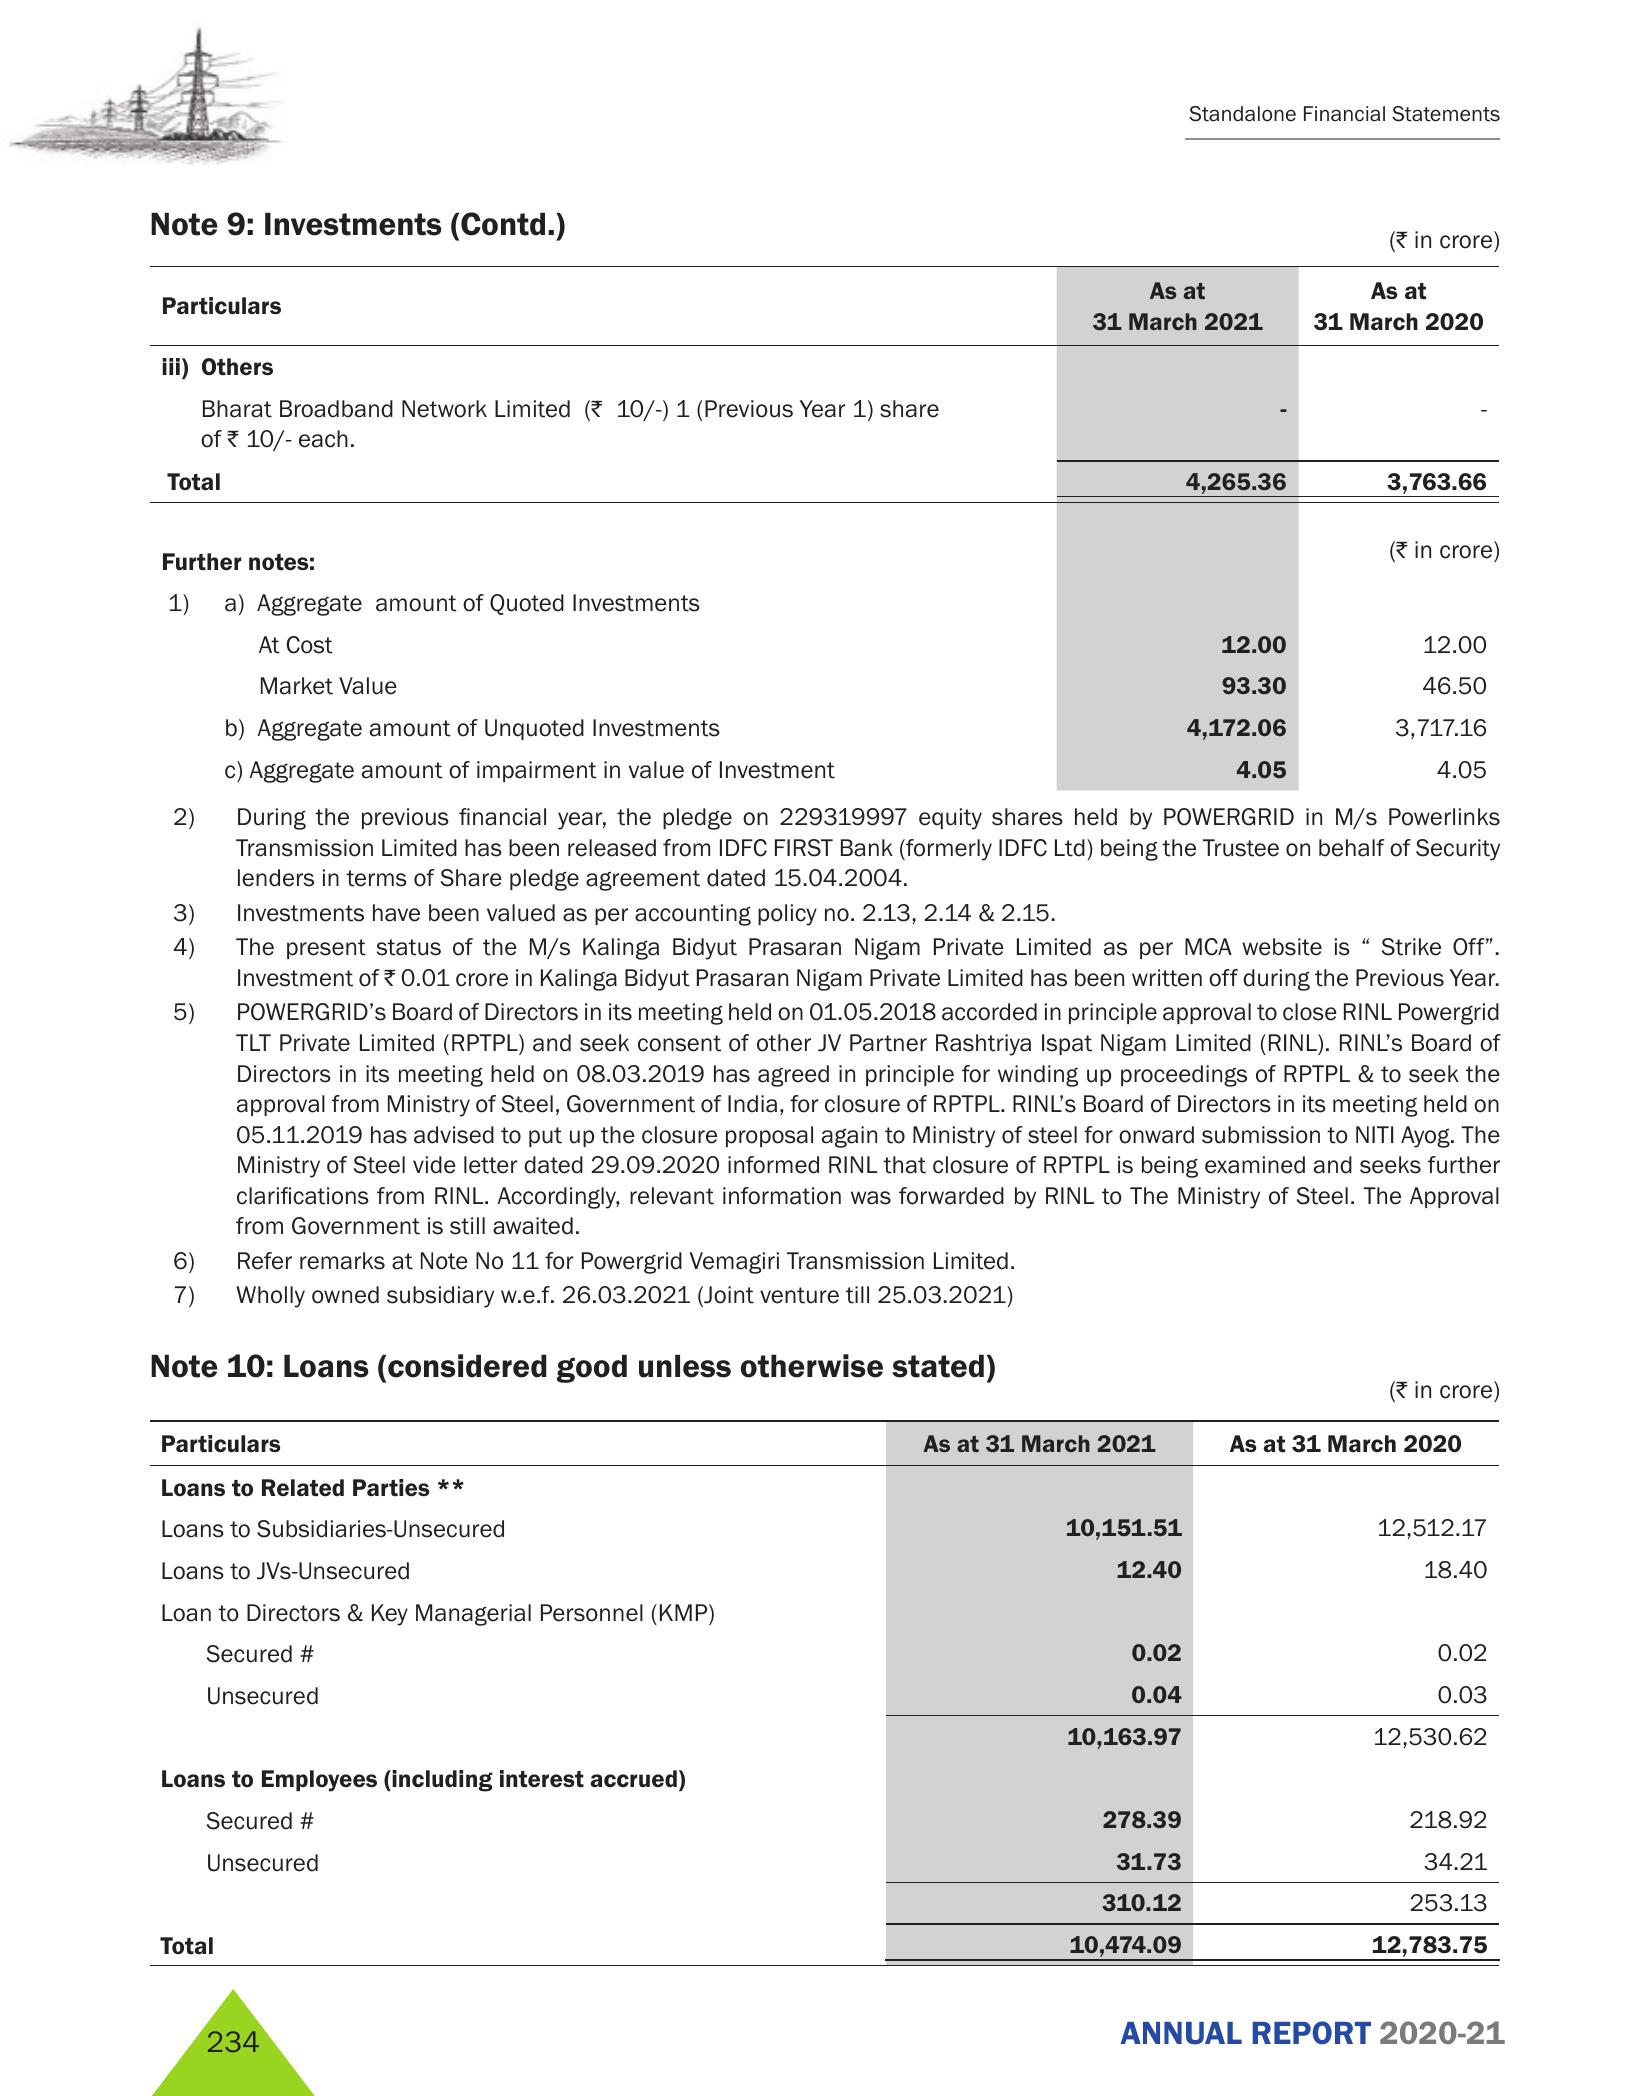Footer: (0, 1974, 1650, 2096)
Header: (0, 0, 1650, 175)
Table: (114, 1414, 1533, 1968), (143, 265, 1524, 793)
